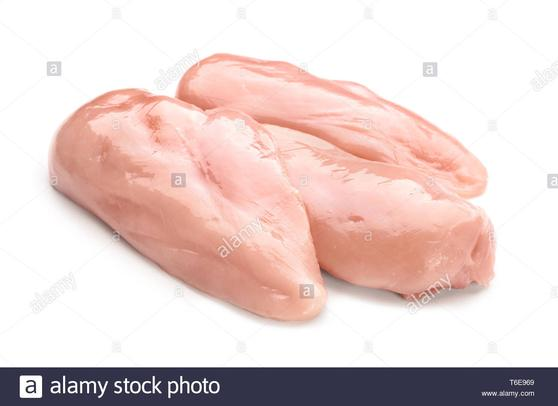chicken_fillet: (48, 88, 323, 318), (193, 51, 489, 193)
